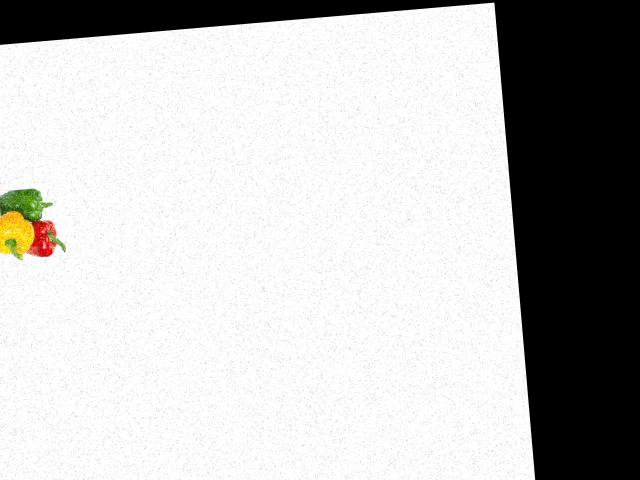bell_pepper: (17, 212, 71, 265)
